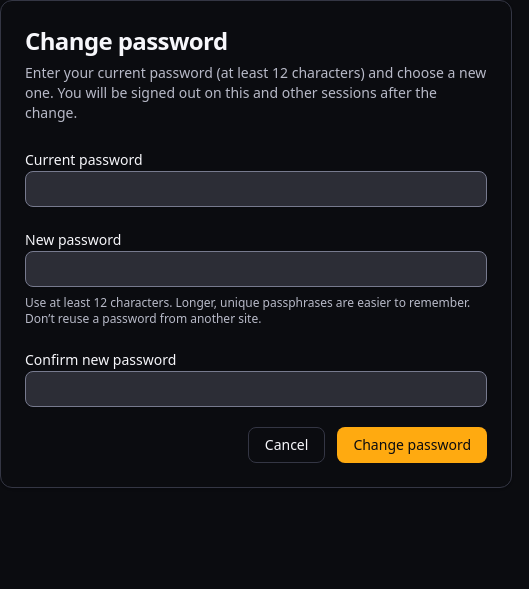
Scenario: self-service password change › does not send passwords when confirmation differs
Type "current-test-password" into the password field labelled "Current password".
click(256, 189); type("current-test-password")  # box [25,171,487,207]
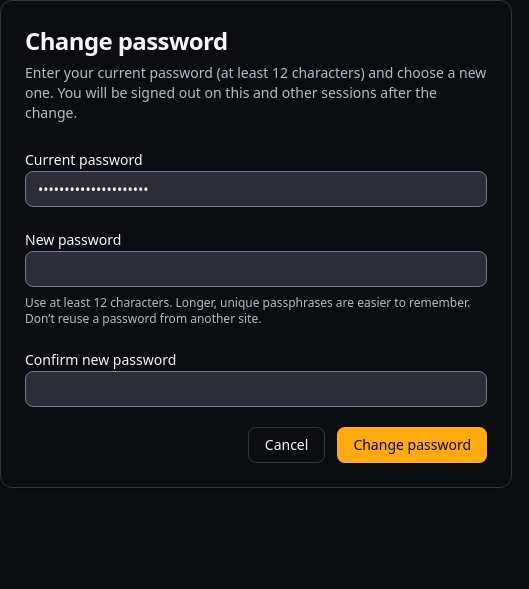
Type "replacement-test-password" into the password field labelled "New password".
click(256, 269); type("replacement-test-password")  # box [25,251,487,287]
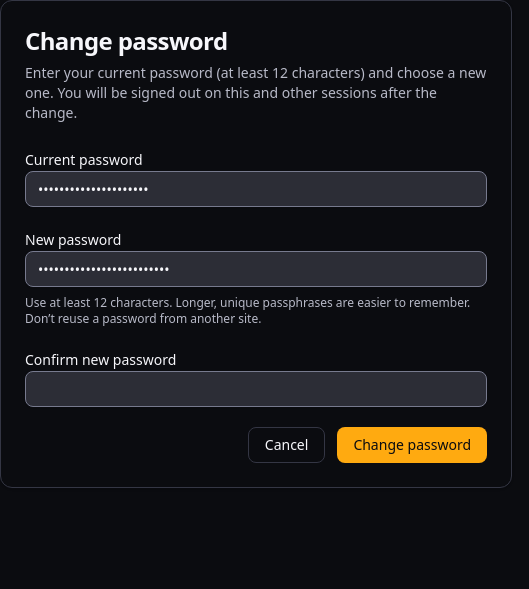
Type "different-test-password" into the password field labelled "Confirm new password".
click(256, 389); type("different-test-password")  # box [25,371,487,407]
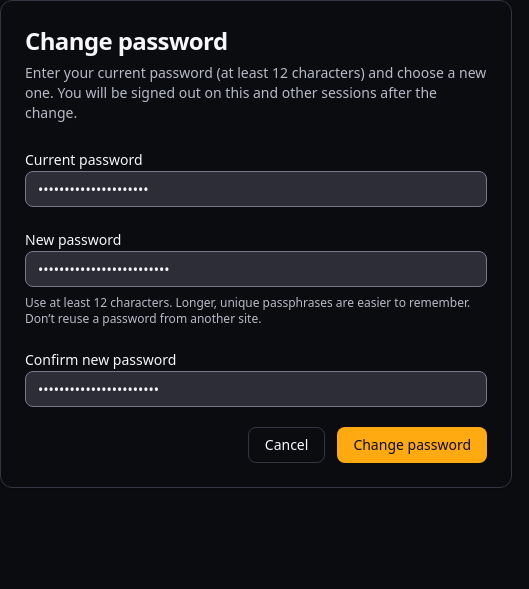
Click the button "Change password".
click(412, 445)  # box [337,427,487,463]
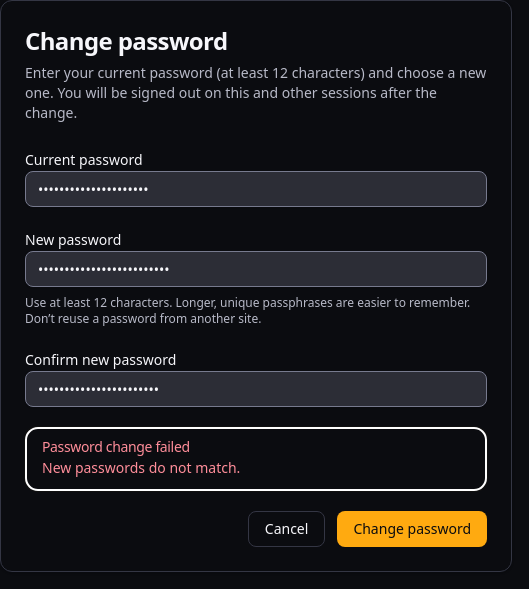
Expected: the message shows "New passwords do not match", [42,458,240,477]
